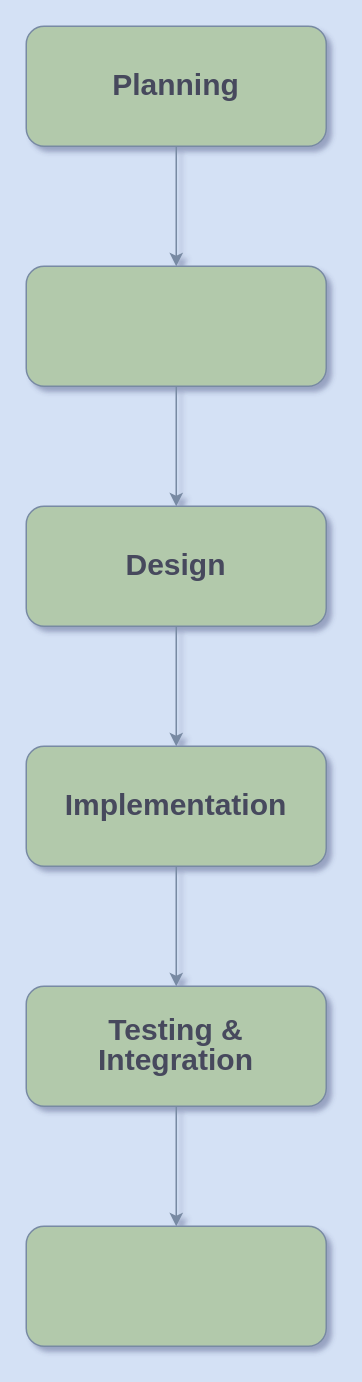
Some shapes in this 362 by 1382 pixel diagram are drawn without their labels. Here are the shapes that lost their labels. From the top down, the centre of each, then its label:
At (x=175, y=325): "Analysis".
At (x=175, y=1285): "Maintenance".
